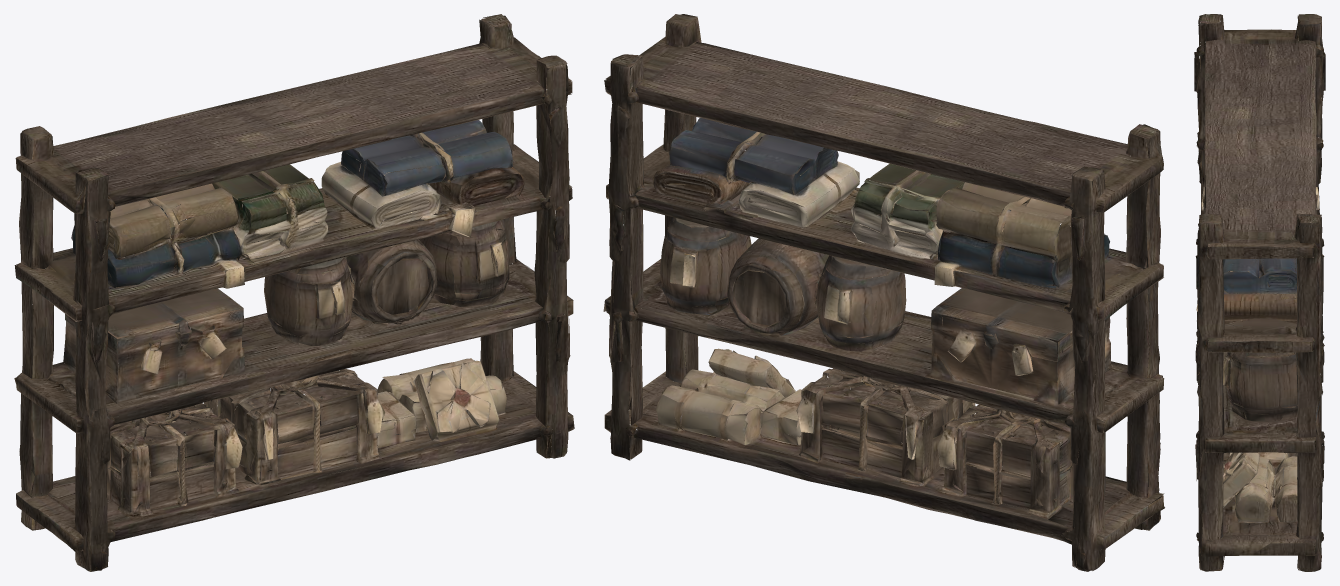
The model's file is customs-seizure-shelf.glb.
3 renders of one model, left to right at view 1: azimuth 30°, elevation 25°; view 2: azimuth 150°, elevation 25°; view 3: azimuth 270°, elevation 25°, orthographic. The views are drawn at different scales.
Visible parts, largest first — view 1: Mesh_0; view 2: Mesh_0; view 3: Mesh_0.
Part boxes in pixels (left/top/right/bottom): Mesh_0: left=14, top=14, right=574, bottom=571; Mesh_0: left=603, top=14, right=1164, bottom=571; Mesh_0: left=1194, top=14, right=1325, bottom=571.
Size of the model in its own units: 1.9 by 1.43 by 0.488.
1 material, 1 textured.
